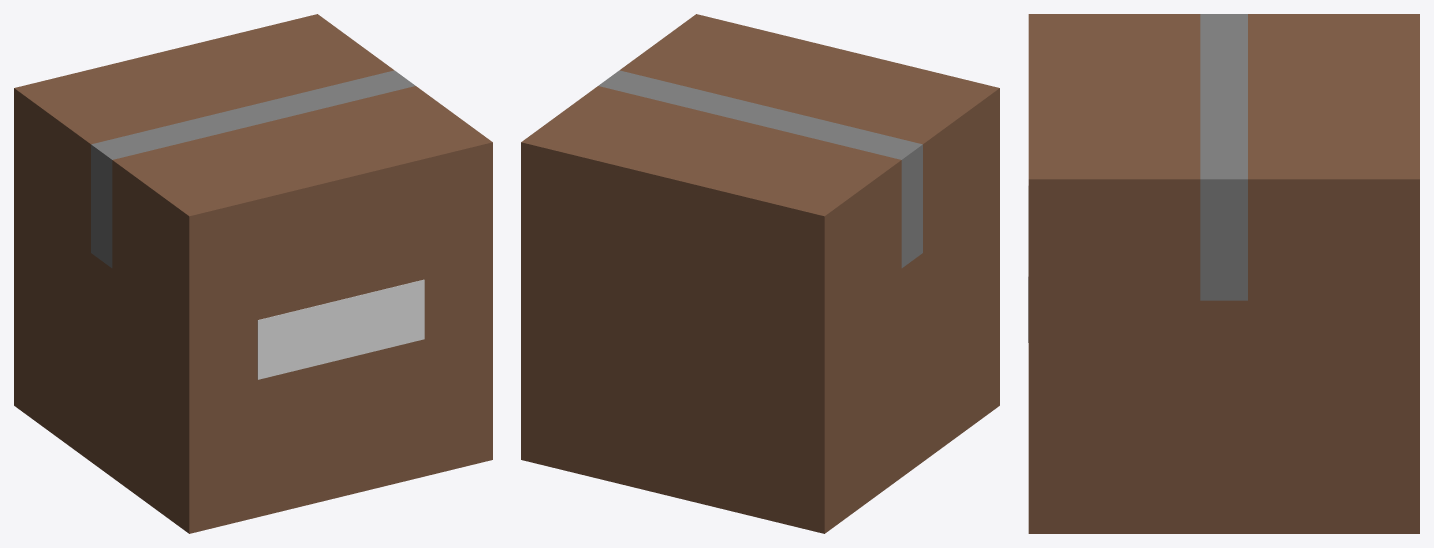
Rendered from CaixaF.fbx.
The picture shows the model from 3 angles, left to right: view 1: azimuth 30°, elevation 25°; view 2: azimuth 150°, elevation 25°; view 3: azimuth 270°, elevation 25°; orthographic projection. The views are drawn at different scales.
Parts seen in each view (by area): view 1: CaixaF, CaixaFPapel, CaixaFFita; view 2: CaixaF, CaixaFFita; view 3: CaixaF, CaixaFFita.
Boxes of the visible parts, x1=… form: CaixaF: x1=14, y1=14, x2=492, y2=533; CaixaFPapel: x1=257, y1=279, x2=424, y2=379; CaixaFFita: x1=91, y1=70, x2=415, y2=267; CaixaF: x1=521, y1=14, x2=999, y2=533; CaixaFFita: x1=598, y1=70, x2=922, y2=267; CaixaF: x1=1028, y1=14, x2=1419, y2=533; CaixaFFita: x1=1200, y1=14, x2=1247, y2=300.
Size of the model in its own units: 27.32 by 27.32 by 27.35.
